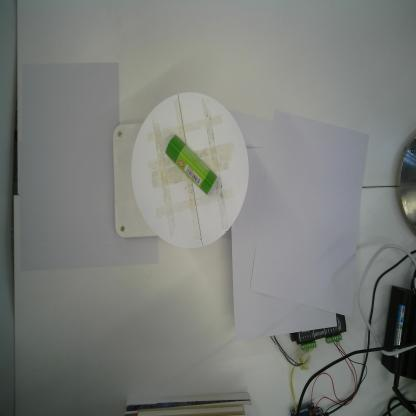Stationery: (163, 130, 218, 196)
